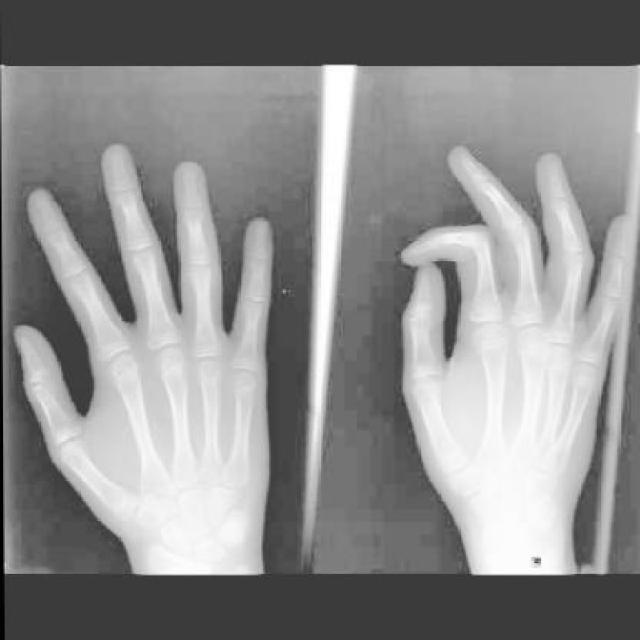Fracture: (182, 208, 205, 227), (551, 197, 571, 214)
